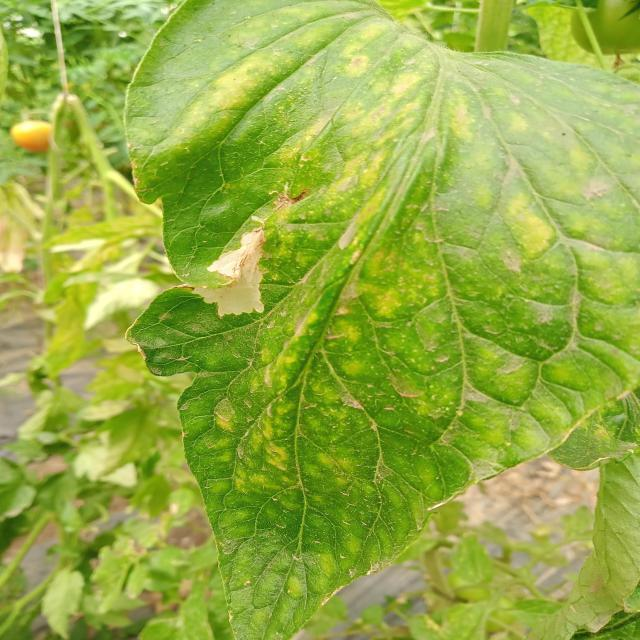Tuta absoluta: (191, 223, 268, 320)
